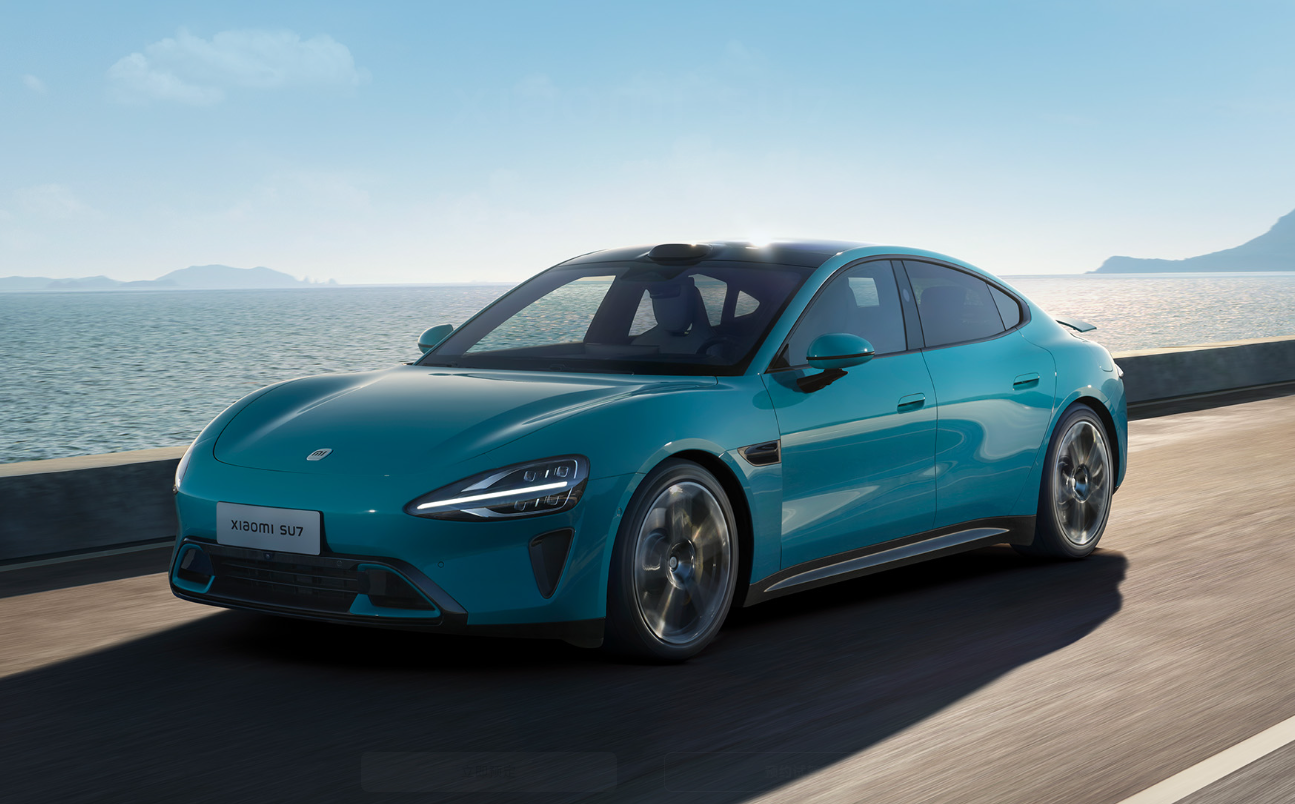su7: (174, 228, 1135, 670)
